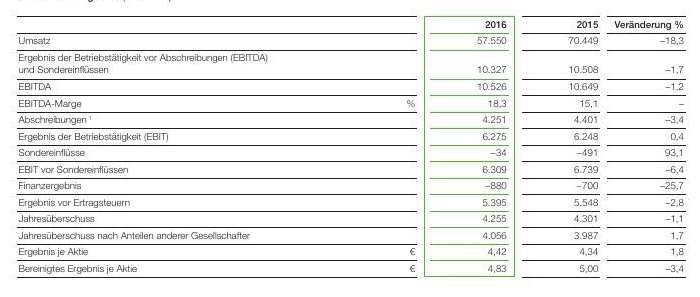table: (0, 0, 700, 297)
